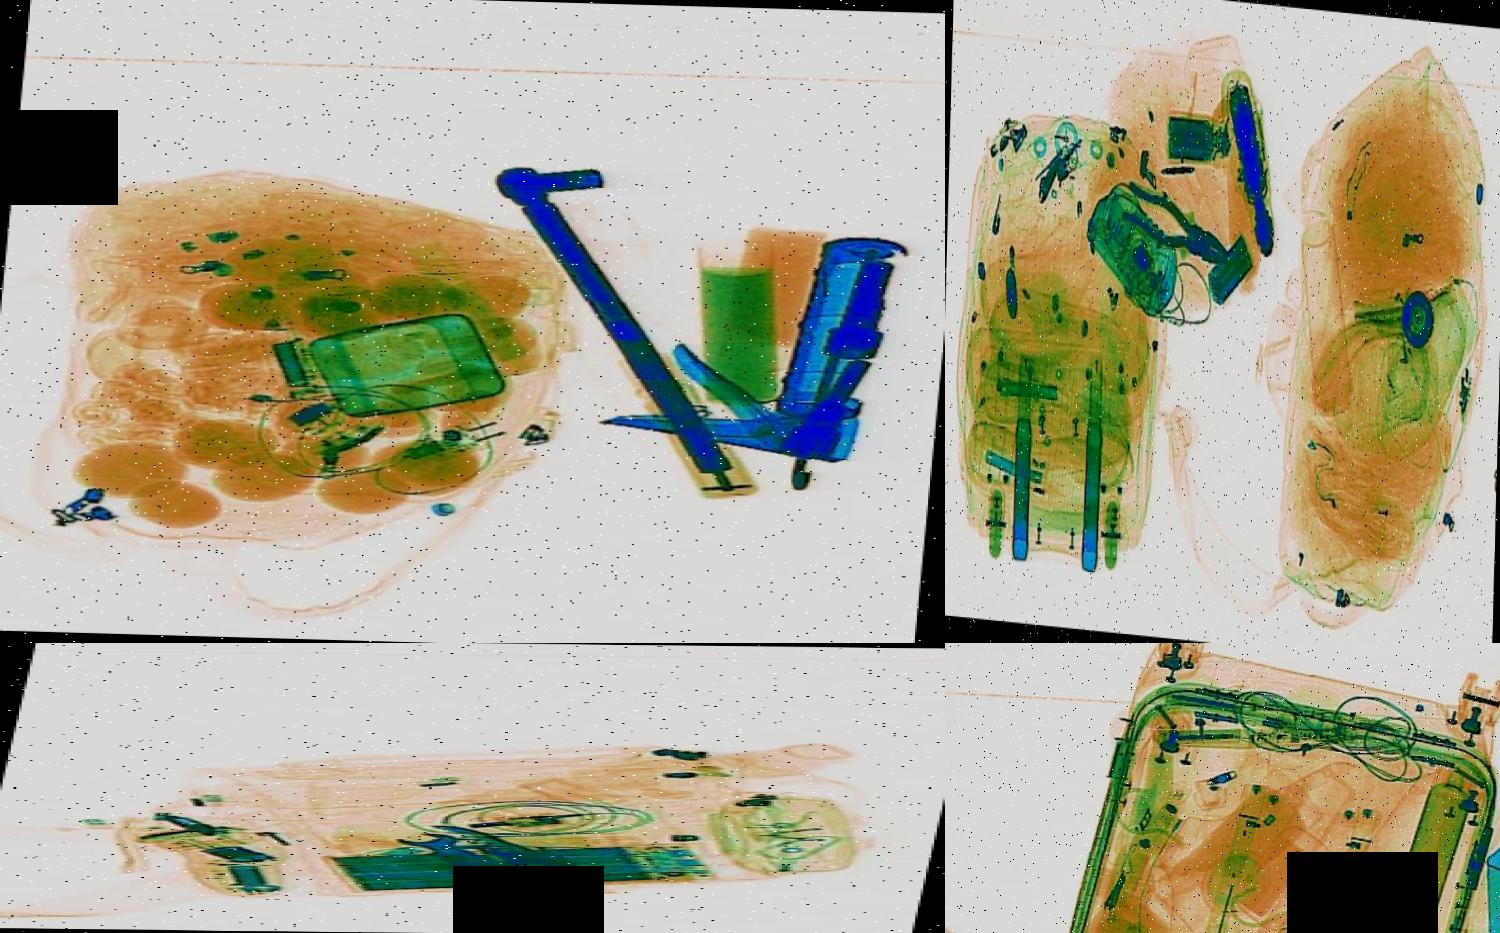Knife: (590, 212, 912, 463), (402, 820, 605, 878)
Pliers: (1109, 174, 1234, 274)
Wrench: (375, 829, 519, 875)
